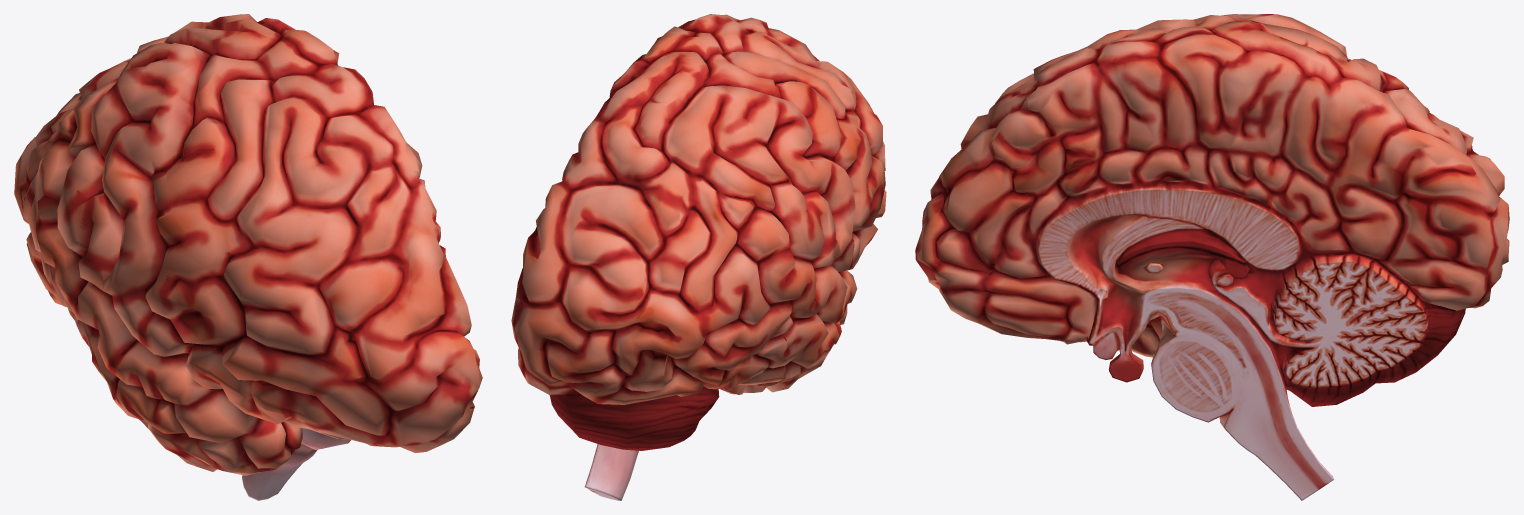
Rendered from brain_m.glb.
3 views of the same model, side by side, from view 1: azimuth 30°, elevation 25°; view 2: azimuth 150°, elevation 25°; view 3: azimuth 270°, elevation 25° (orthographic). The views are drawn at different scales.
Visible parts, largest first — view 1: Brain; view 2: Brain; view 3: Brain.
Part boxes in pixels (x1,y1,x2,y2): Brain: [14, 14, 482, 500]; Brain: [511, 14, 886, 500]; Brain: [915, 14, 1509, 500].
Bounding box in the file's own units: 2.1 × 4.21 × 5.01.
1 material, 1 textured.
